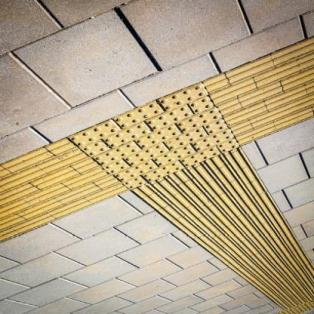Podoctatil: (0, 36, 314, 311)
